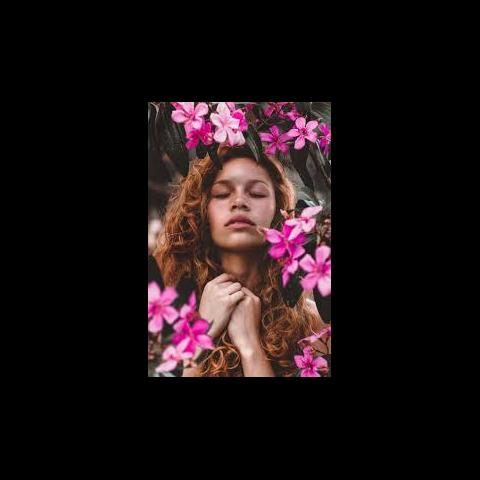closed: (205, 175, 273, 207)
